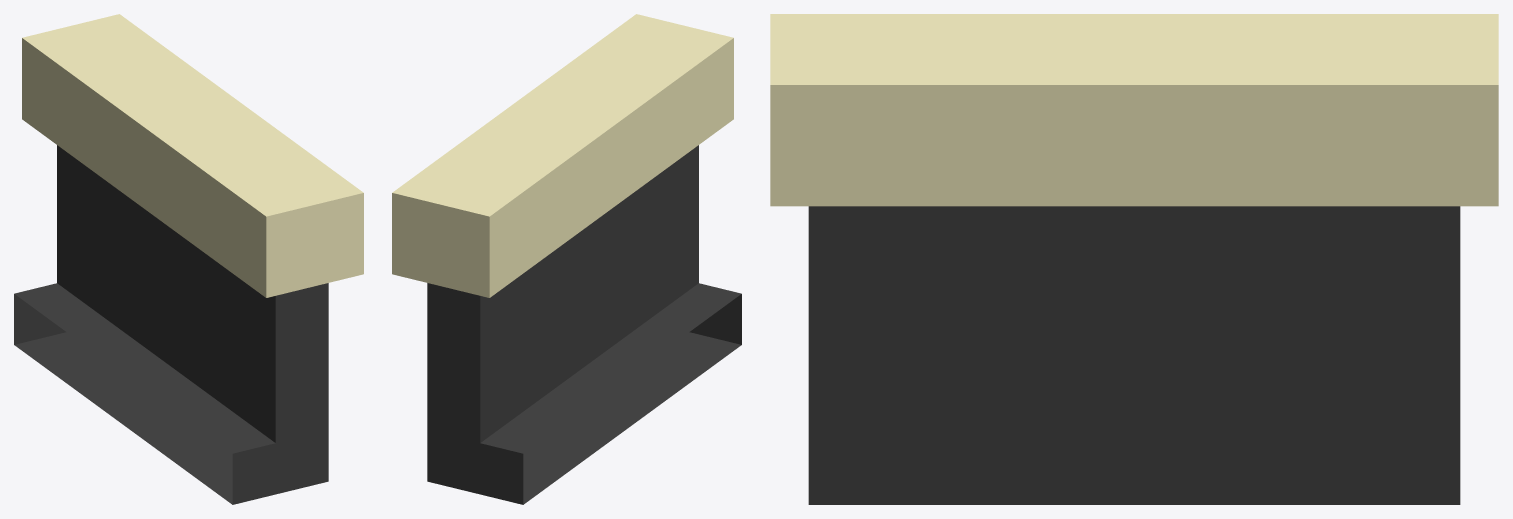
File: Itr_Officechair_Side_Right_02.FBX
3 views of the same model, side by side, from view 1: azimuth 30°, elevation 25°; view 2: azimuth 150°, elevation 25°; view 3: azimuth 270°, elevation 25° (orthographic). The views are drawn at different scales.
Parts seen in each view (by area): view 1: Itr_Officechair_Side_Right_02; view 2: Itr_Officechair_Side_Right_02; view 3: Itr_Officechair_Side_Right_02.
Boxes of the visible parts, left/top/right/bottom form: Itr_Officechair_Side_Right_02: left=14, top=14, right=363, bottom=504; Itr_Officechair_Side_Right_02: left=392, top=14, right=741, bottom=504; Itr_Officechair_Side_Right_02: left=770, top=14, right=1498, bottom=504.
Size of the model in its own units: 5.8 by 13.72 by 20.76.
